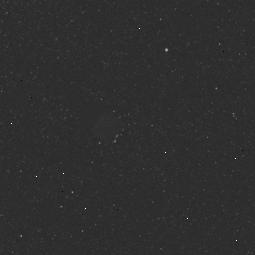proba_3_ocs: (70, 89, 135, 148)
